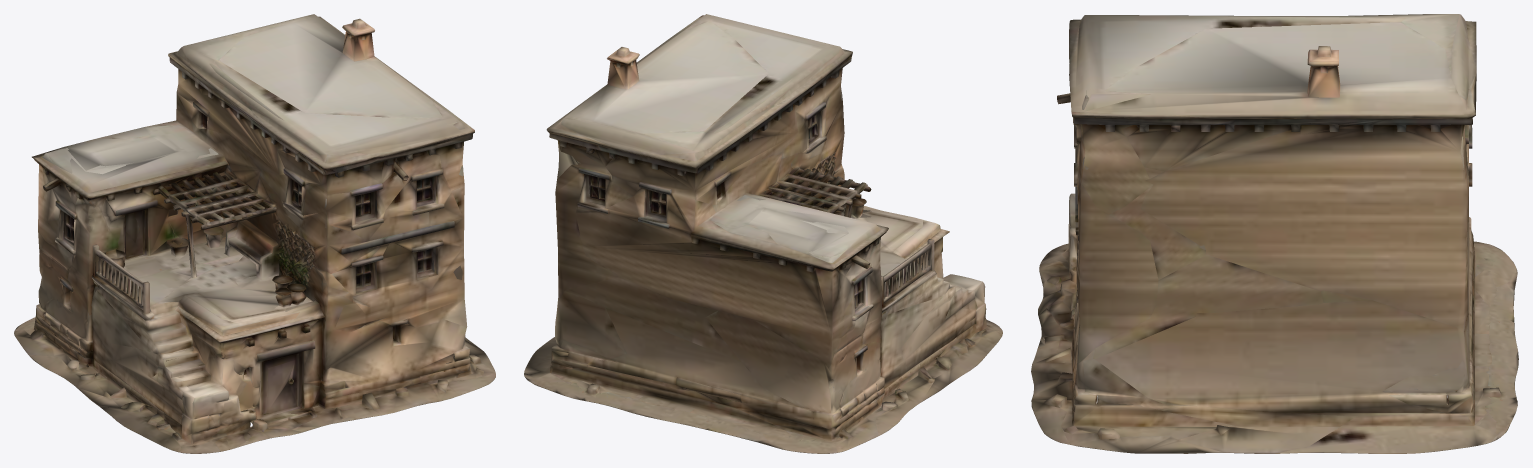
File: house_14.glb
3 renders of one model, left to right at view 1: azimuth 30°, elevation 25°; view 2: azimuth 150°, elevation 25°; view 3: azimuth 270°, elevation 25°, orthographic. The views are drawn at different scales.
Visible parts, largest first — view 1: node_0; view 2: node_0; view 3: node_0.
Boxes of the visible parts, x1,y1,x2,y2 form: node_0: (14, 14, 495, 453); node_0: (524, 14, 1002, 453); node_0: (1031, 14, 1518, 453).
Size of the model in its own units: 0.8142 by 0.6482 by 0.7676.
1 material, 1 textured.
